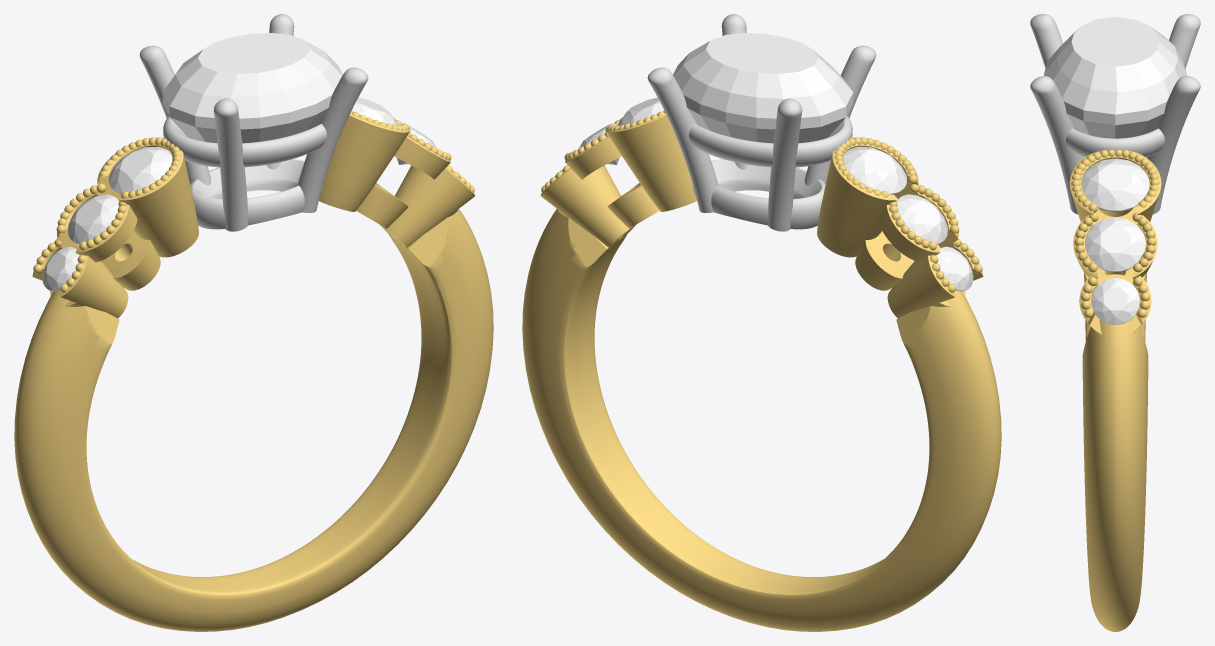
File: Caruna_Chris_webgi.glb
3 renders of one model, left to right at view 1: azimuth 30°, elevation 25°; view 2: azimuth 150°, elevation 25°; view 3: azimuth 270°, elevation 25°, orthographic.
Visible parts, largest first — view 1: Caruna_Chris030, Caruna_Chris006, Caruna_Chris001, Caruna_Chris007, Caruna_Chris002, Caruna_Chris003; view 2: Caruna_Chris030, Caruna_Chris006, Caruna_Chris001, Caruna_Chris007, Caruna_Chris002, Caruna_Chris003; view 3: Caruna_Chris030, Caruna_Chris001, Caruna_Chris006, Caruna_Chris005, Caruna_Chris004, Caruna_Chris130.
Part boxes in pixels (x1,y1,x2,y2): Caruna_Chris030: (14,110,493,631); Caruna_Chris006: (139,14,368,231); Caruna_Chris001: (162,33,342,143); Caruna_Chris007: (109,147,172,193); Caruna_Chris002: (68,194,119,244); Caruna_Chris003: (42,246,79,291); Caruna_Chris030: (522,98,1001,631); Caruna_Chris006: (647,14,876,231); Caruna_Chris001: (673,33,853,143); Caruna_Chris007: (843,147,906,194); Caruna_Chris002: (896,194,947,244); Caruna_Chris003: (936,246,973,291); Caruna_Chris030: (1069,150,1161,631); Caruna_Chris001: (1044,17,1186,138); Caruna_Chris006: (1030,14,1200,214); Caruna_Chris005: (1081,158,1149,211); Caruna_Chris004: (1085,217,1145,272); Caruna_Chris130: (1091,278,1139,324).
Size of the model in its own units: 2.57 by 2.96 by 0.8097.
